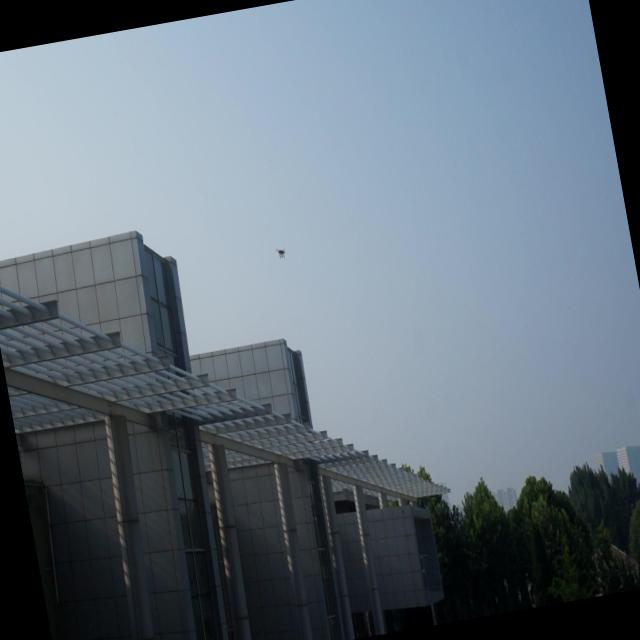drone: (270, 242, 290, 264)
